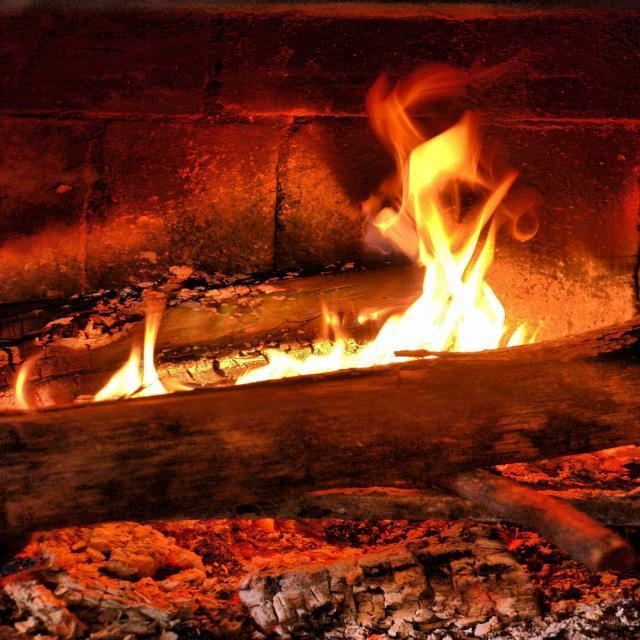Fire: (234, 123, 513, 384), (95, 300, 169, 403)
